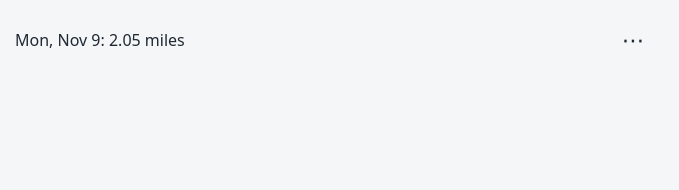
Test case: RunList › closes the menu when you press the dots again
This screenshot has width=679, height=190.
Click the button named "Actions for Mon, Nov 9 run" at coordinates (633, 40), box [611,18,655,62]
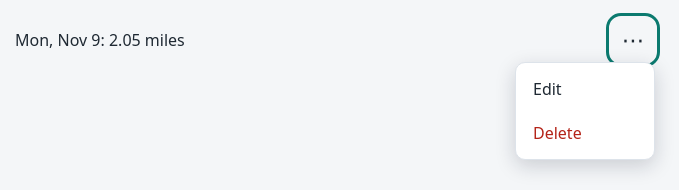
Click the button named "Actions for Mon, Nov 9 run" at coordinates (633, 40), box [611,18,655,62]
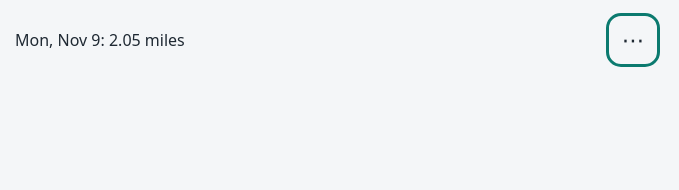
Now the menu item is gone
